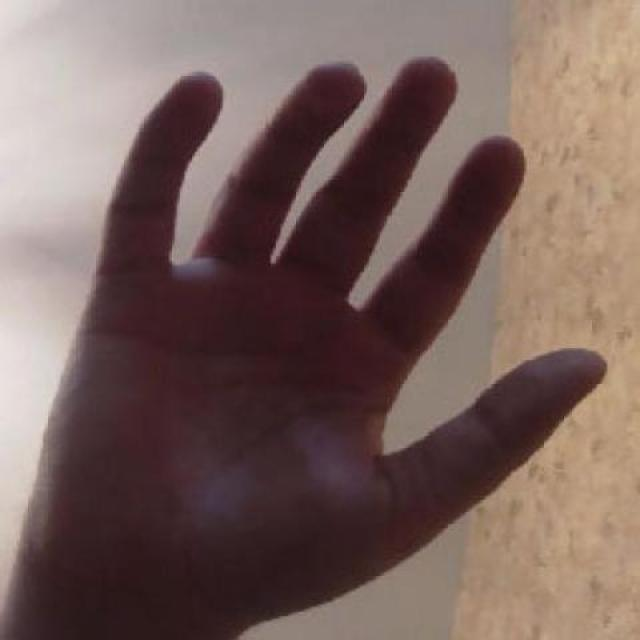Open Hand: (23, 48, 609, 640)
